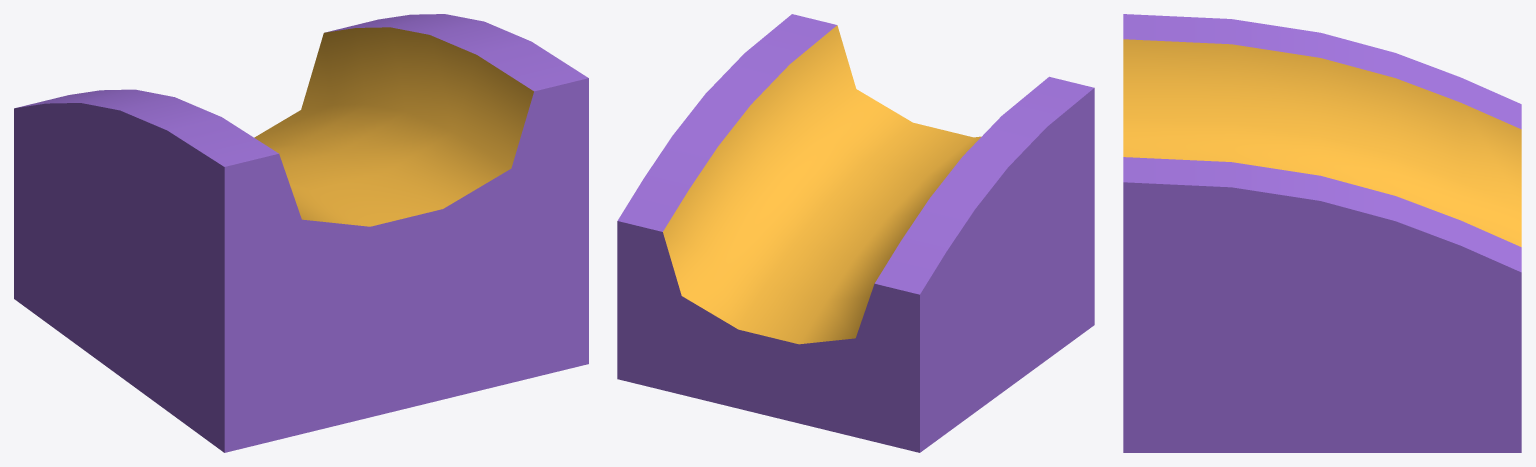
File: ramp_end_solid_b.glb
The picture shows the model from 3 angles, left to right: view 1: azimuth 30°, elevation 25°; view 2: azimuth 150°, elevation 25°; view 3: azimuth 270°, elevation 25°; orthographic projection. The views are drawn at different scales.
Parts seen in each view (by area): view 1: ramp-end-solid-b; view 2: ramp-end-solid-b; view 3: ramp-end-solid-b.
Part boxes in pixels (bbox=[...]): ramp-end-solid-b: bbox=[14, 14, 588, 452]; ramp-end-solid-b: bbox=[617, 14, 1094, 452]; ramp-end-solid-b: bbox=[1123, 14, 1521, 452].
Size of the model in its own units: 1 by 0.75 by 1.
1 material, 1 textured.
